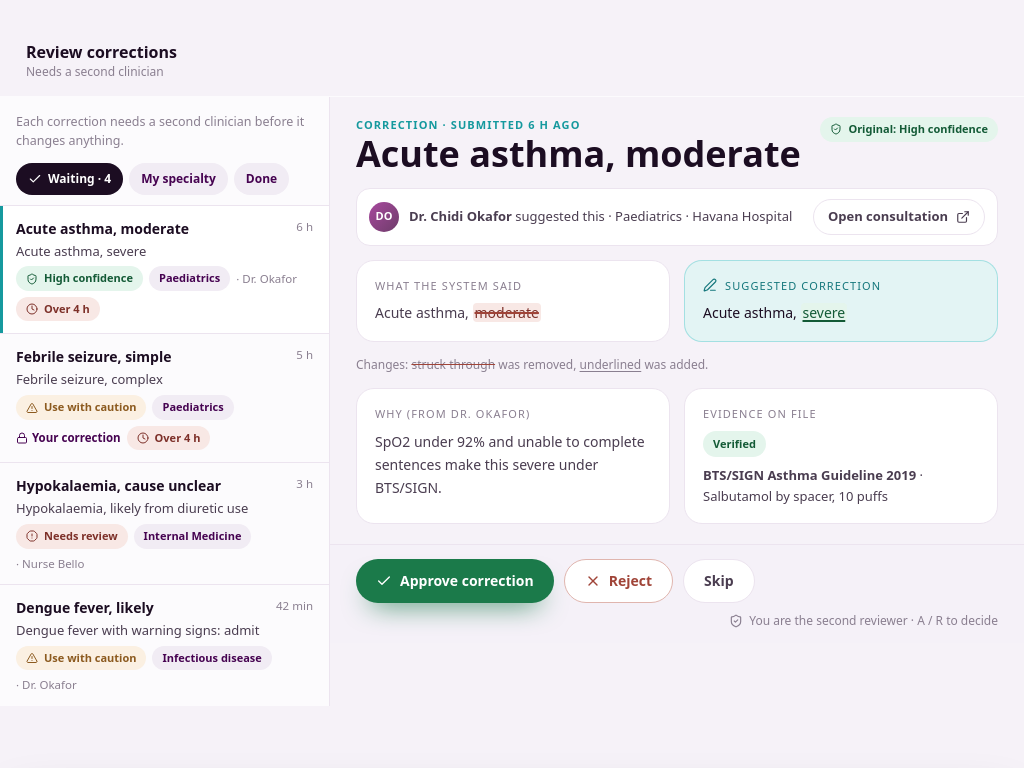
Test: ReviewView › on phones, A does nothing while the list is showing
The image size is (1024, 768).
Type keys "a"
Check: the text "Correction approved" is not shown
Click the button "Acute asthma, moderate".
click(164, 269)  # box [0,204,329,333]
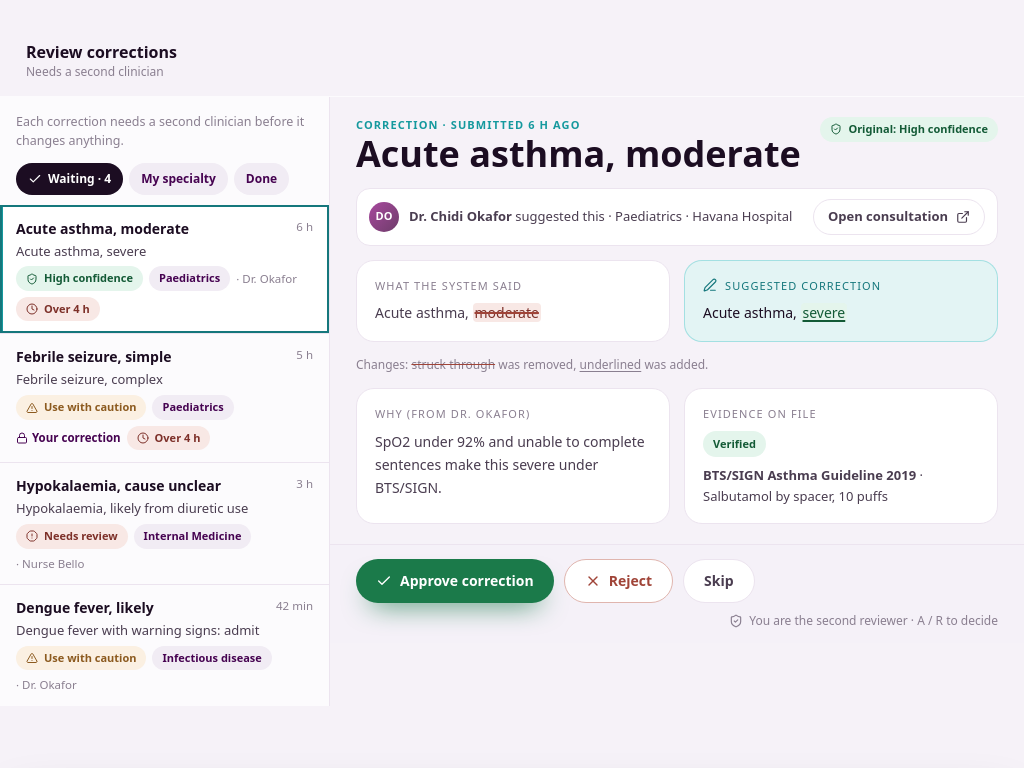
Type keys "a"
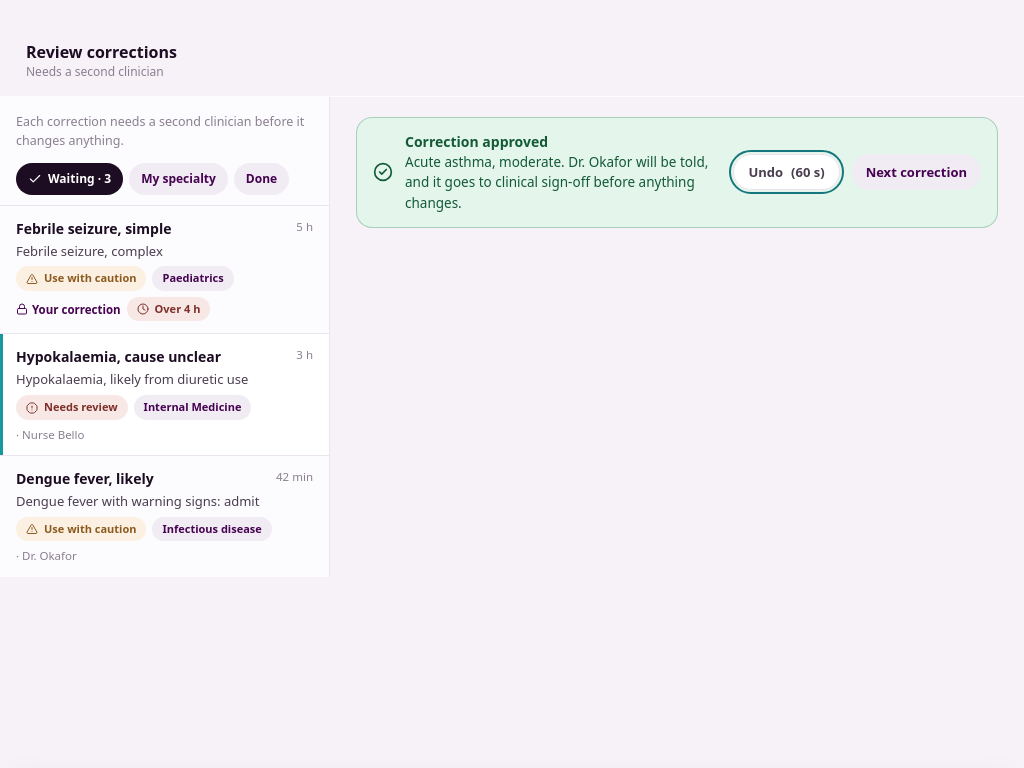
Check: the text "Correction approved" is shown, box [405,132,548,151]
